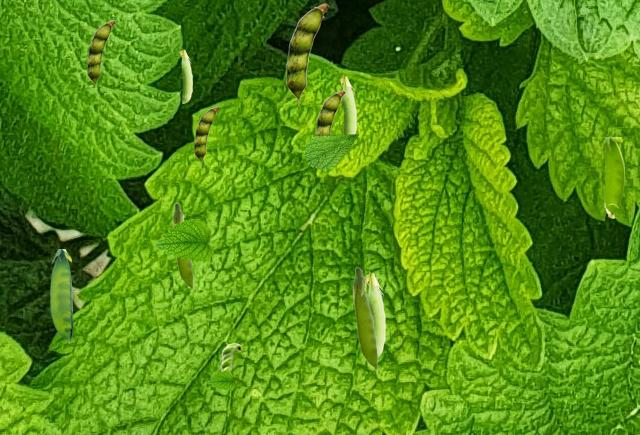pea: (286, 3, 328, 105), (352, 266, 378, 372), (50, 249, 71, 342), (172, 202, 193, 291), (87, 20, 114, 87), (365, 270, 384, 357), (604, 137, 623, 217), (194, 106, 218, 164), (315, 90, 344, 135), (339, 74, 355, 133), (179, 48, 191, 102), (220, 343, 241, 371)
